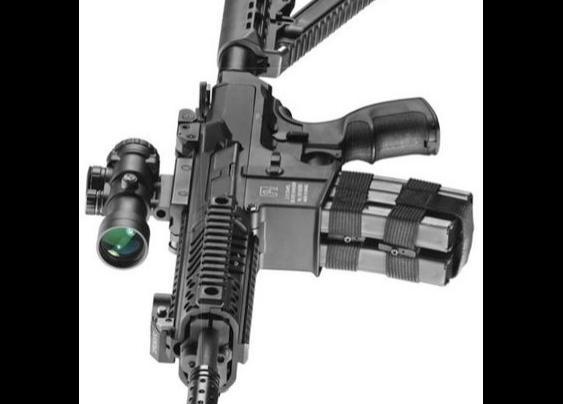gun: (86, 0, 475, 404)
